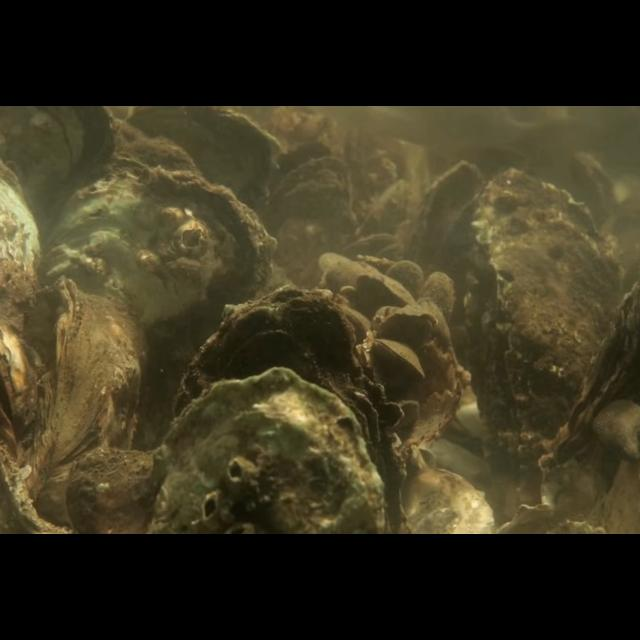Oyster-Closed: (43, 165, 277, 442), (173, 284, 404, 534), (146, 366, 384, 534), (28, 274, 144, 534), (408, 158, 488, 314), (356, 271, 416, 307), (385, 259, 425, 307), (380, 311, 438, 343), (422, 270, 454, 320)
Oyster-Open: (463, 166, 623, 464), (536, 277, 640, 501), (256, 141, 352, 283), (372, 338, 426, 380)
